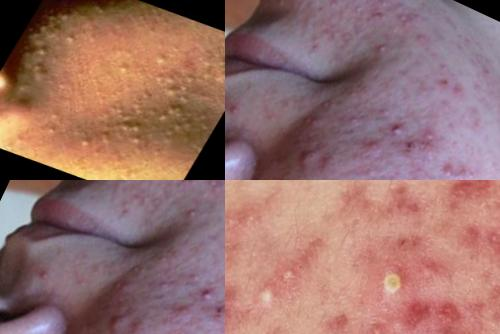acne_scars: (393, 286, 446, 334), (378, 181, 431, 222), (474, 207, 500, 266)
cystic: (289, 133, 327, 179), (99, 298, 137, 334)
papular: (379, 112, 415, 149), (189, 277, 225, 314), (434, 73, 473, 105), (308, 19, 342, 50), (118, 184, 152, 215), (369, 97, 399, 126), (179, 262, 209, 291), (365, 1, 397, 28), (344, 108, 373, 137), (154, 273, 183, 302), (175, 181, 207, 193), (405, 170, 430, 181)
purulent: (363, 254, 419, 312), (22, 253, 68, 296), (310, 87, 350, 125), (120, 252, 160, 290), (360, 29, 400, 66), (170, 194, 210, 231), (249, 277, 287, 315), (226, 87, 257, 130), (269, 258, 306, 294), (356, 126, 390, 163), (166, 291, 200, 328), (322, 1, 350, 12)
sebo-crystan-conglo: (398, 115, 445, 167), (387, 1, 433, 36), (435, 315, 499, 334), (436, 153, 477, 181), (208, 280, 226, 332), (197, 181, 226, 201)
whitehead: (144, 64, 203, 106), (150, 98, 203, 136), (71, 126, 120, 165), (108, 116, 156, 147), (118, 87, 159, 120), (193, 56, 226, 90), (26, 59, 60, 86), (39, 24, 67, 47), (148, 48, 177, 70), (42, 106, 69, 128), (113, 61, 139, 81), (30, 43, 54, 62), (40, 123, 64, 142), (60, 31, 84, 49), (56, 8, 78, 26)
